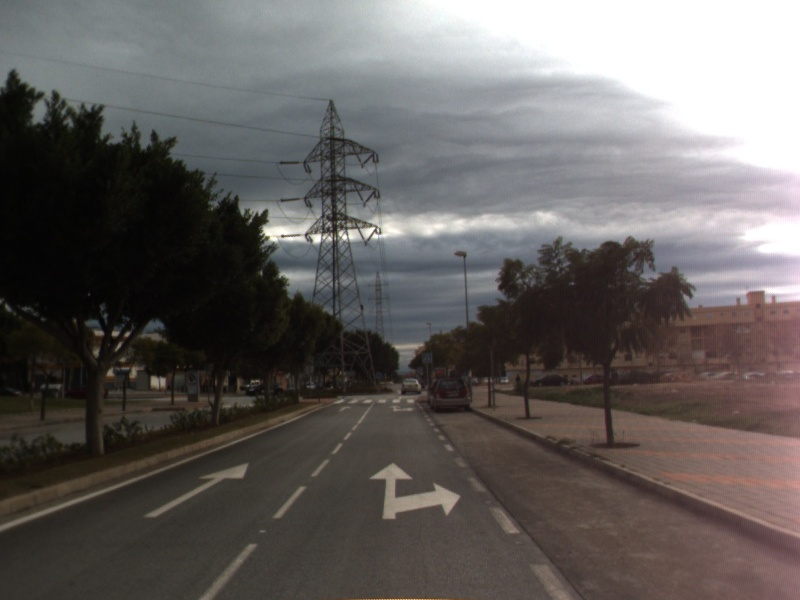STRAIGHT: (141, 461, 251, 519), (337, 404, 353, 413)
STRAIGHT_RIGHT: (366, 460, 463, 521), (388, 403, 417, 413)
